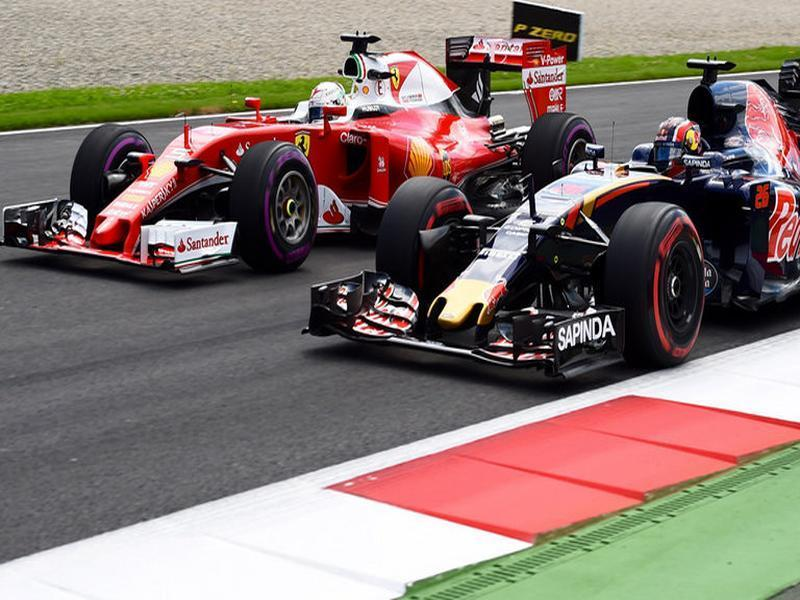f1: (3, 16, 626, 300), (307, 47, 800, 364)
